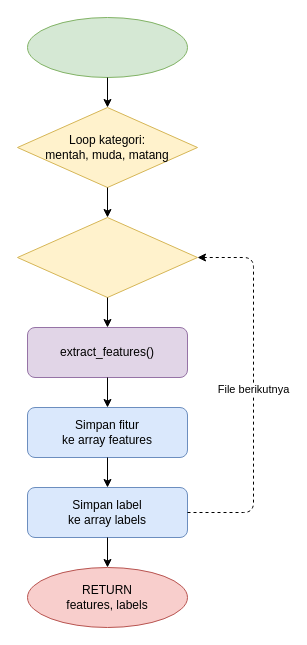
The diagram is 307 pixels wide and 645 high, and some of its shapes have lost their labels. The box of each missing label's shape, as (x1, y1, x2, y2) in pixels:
Loop setiap file dalam folder: (16, 216, 198, 298)
START load_dataset(): (26, 16, 188, 78)
